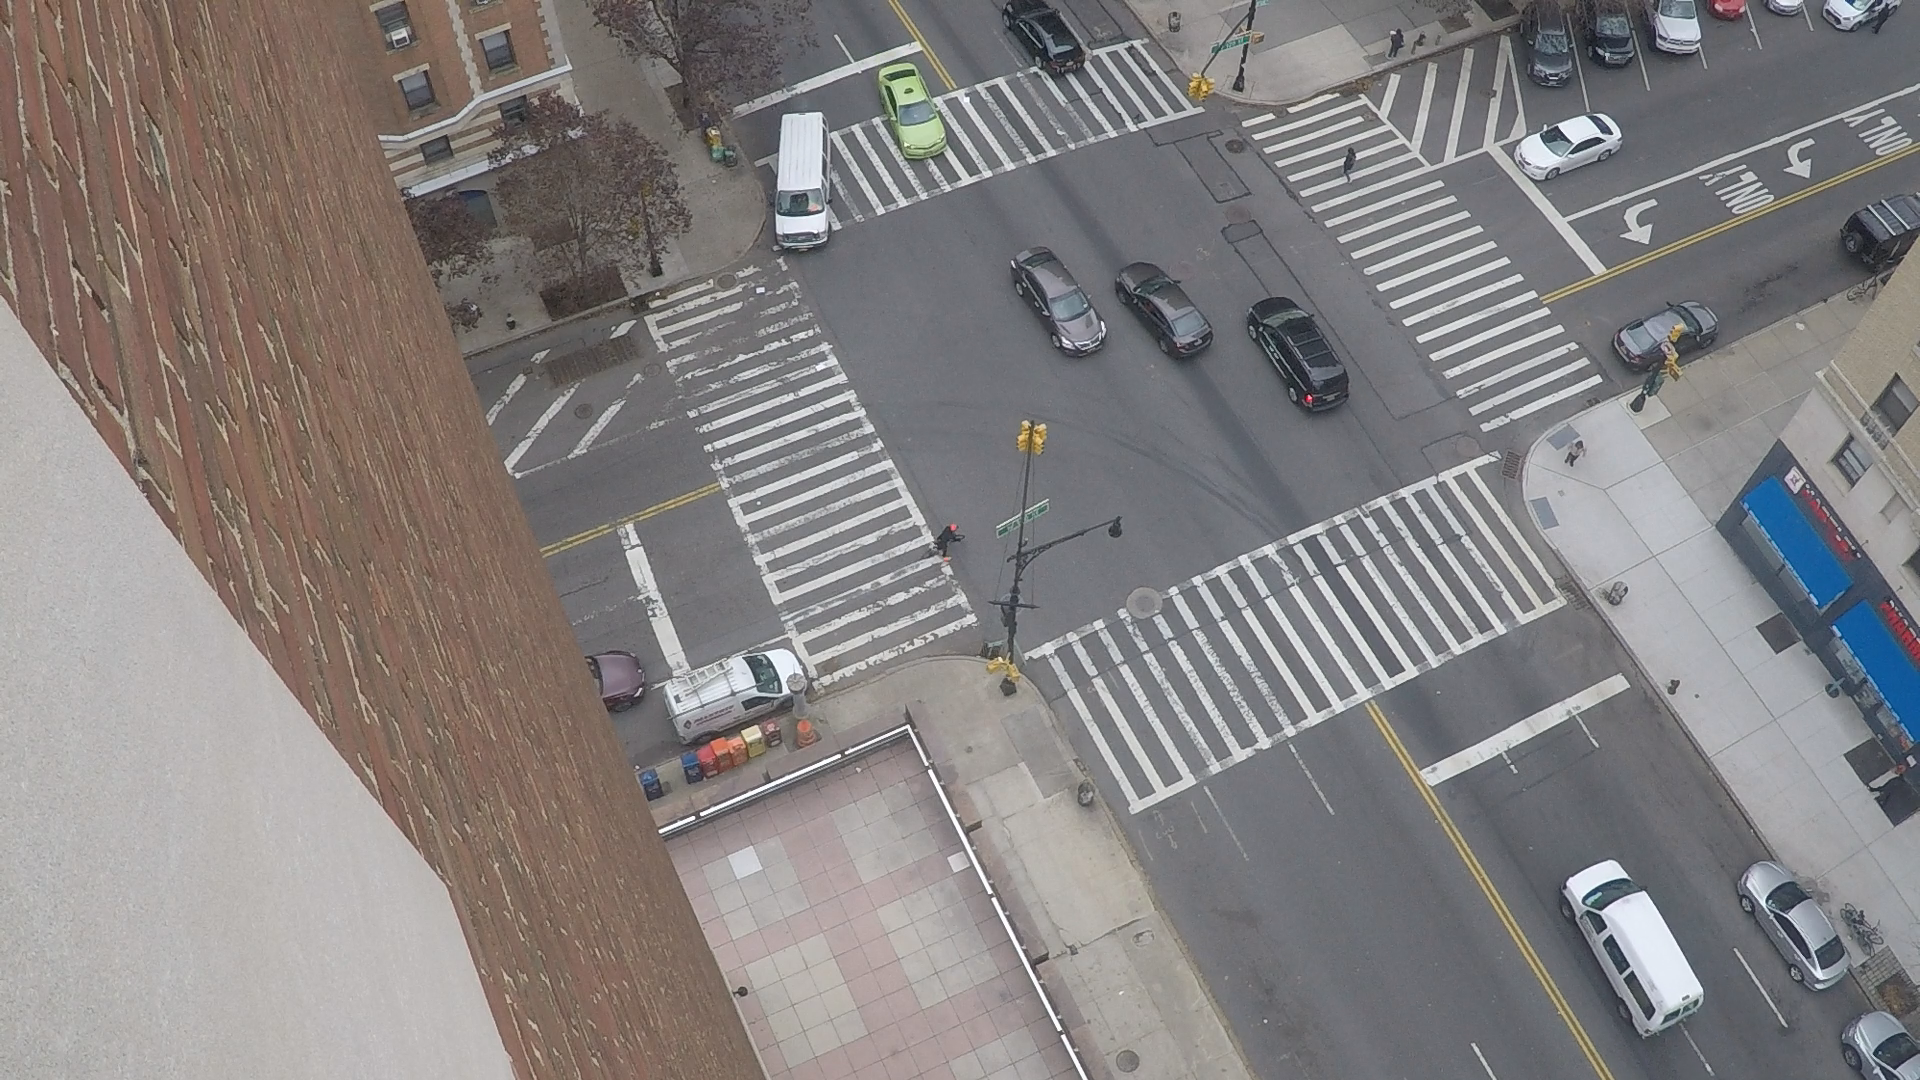Car: (927, 83, 935, 107), (829, 123, 832, 142), (1760, 0, 1764, 5), (1643, 0, 1644, 9), (1704, 0, 1705, 7)
